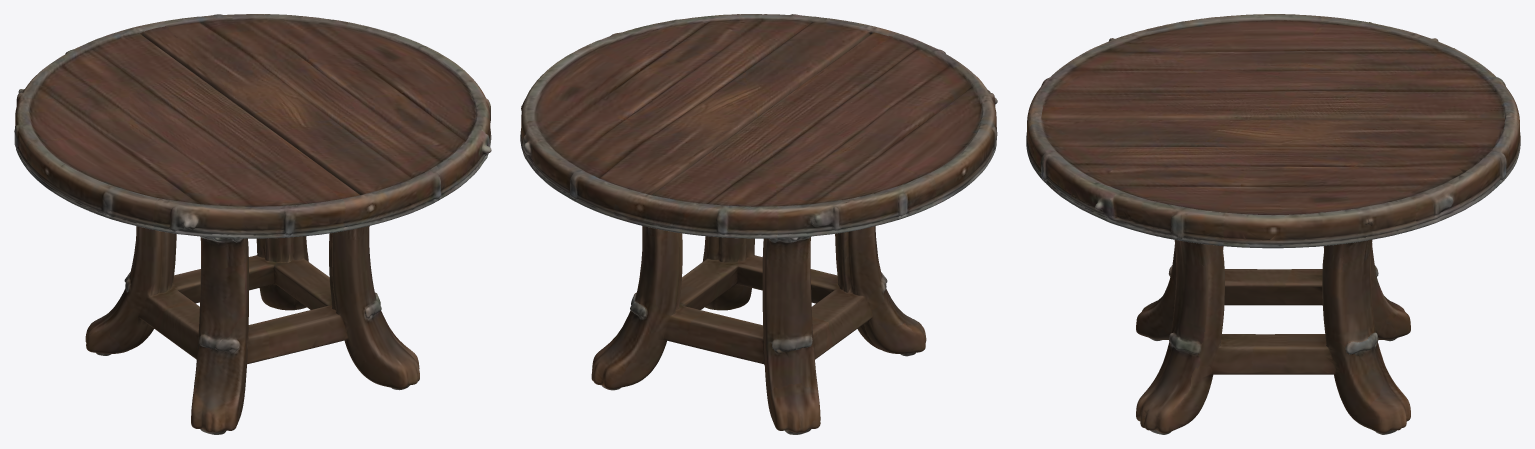
Rendered from 矮圆椅子.glb.
The picture shows the model from 3 angles, left to right: view 1: azimuth 30°, elevation 25°; view 2: azimuth 150°, elevation 25°; view 3: azimuth 270°, elevation 25°; orthographic projection. The views are drawn at different scales.
Visible parts, largest first — view 1: tripo_node_5f04ff8e-e1af-43a0-8aed-9dde50ea4436; view 2: tripo_node_5f04ff8e-e1af-43a0-8aed-9dde50ea4436; view 3: tripo_node_5f04ff8e-e1af-43a0-8aed-9dde50ea4436.
Part boxes in pixels (bbox=[...]): tripo_node_5f04ff8e-e1af-43a0-8aed-9dde50ea4436: bbox=[14, 14, 491, 434]; tripo_node_5f04ff8e-e1af-43a0-8aed-9dde50ea4436: bbox=[520, 14, 997, 434]; tripo_node_5f04ff8e-e1af-43a0-8aed-9dde50ea4436: bbox=[1026, 14, 1520, 434].
Size of the model in its own units: 0.9996 by 0.6016 by 0.9999.
1 material, 1 textured.
